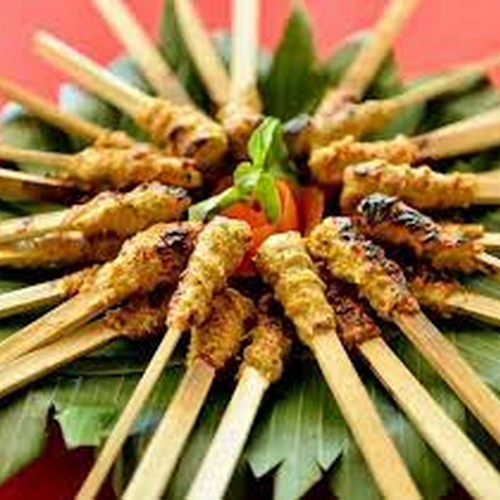sate languan: (165, 219, 394, 348)
